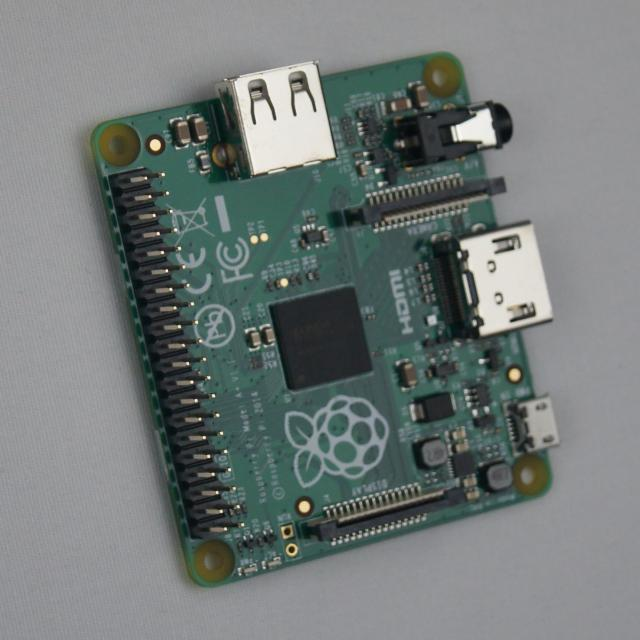Raspberry-Pi-1-A-: (94, 53, 559, 586)
